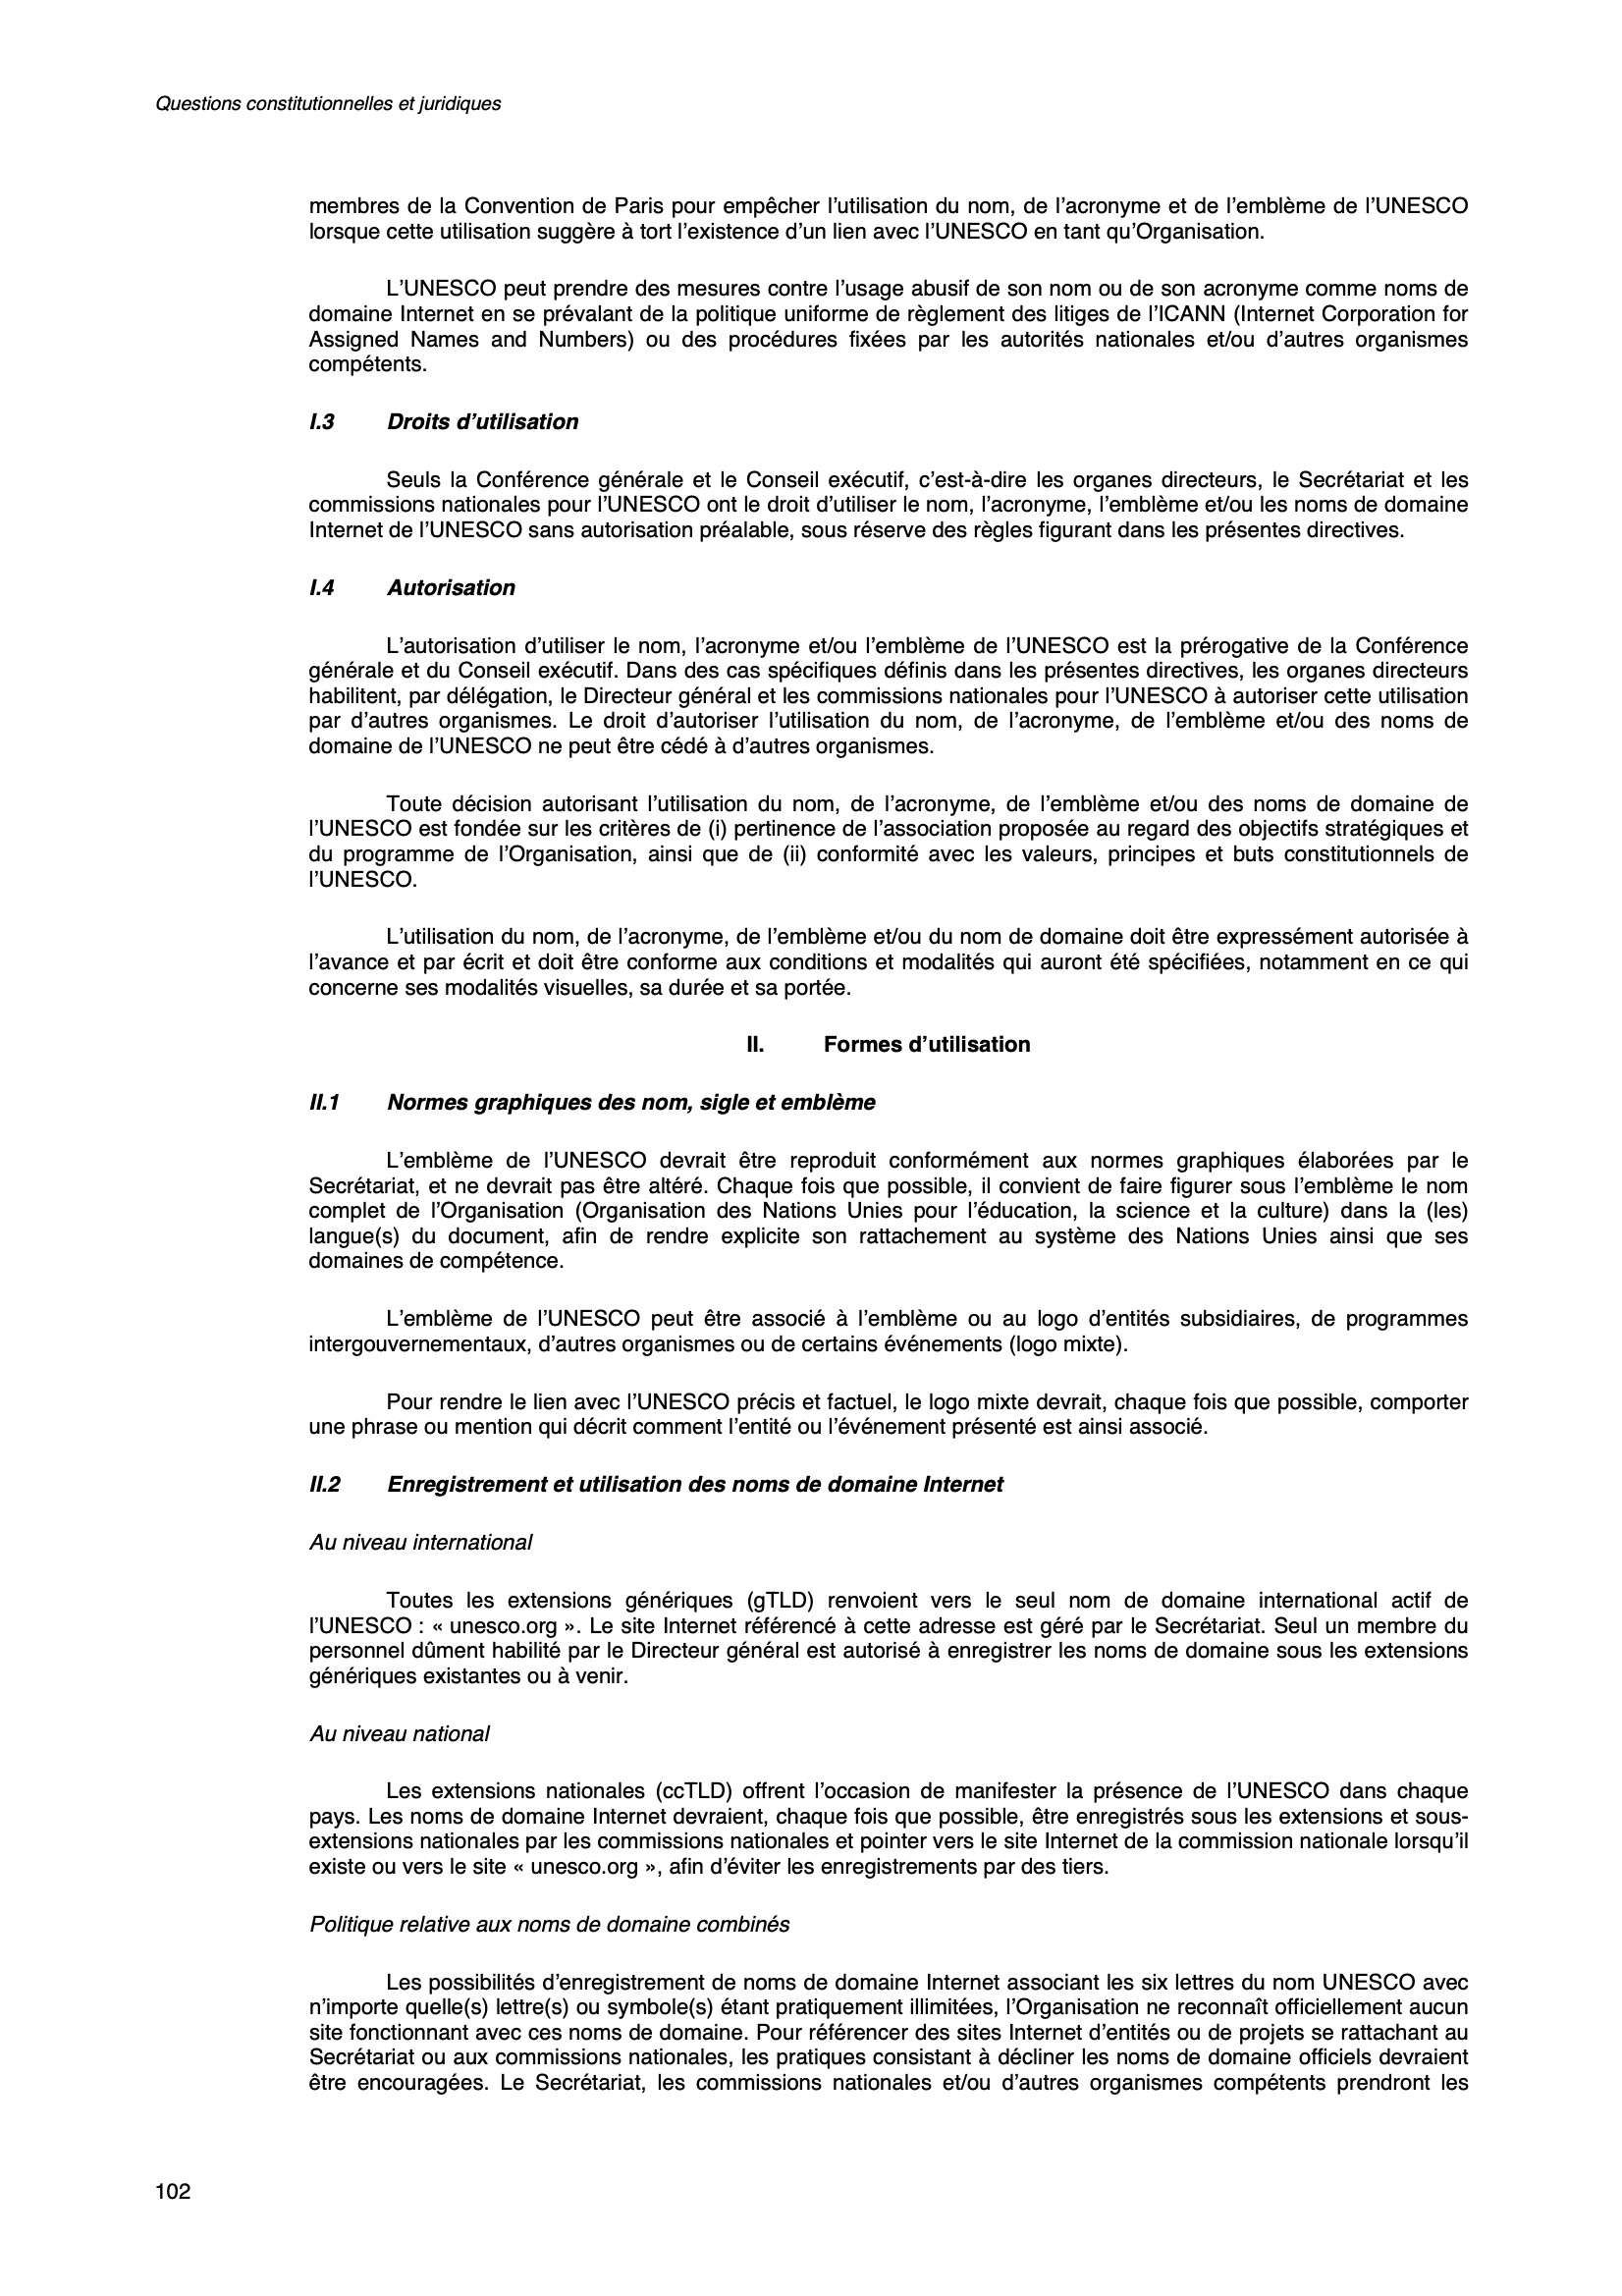MainZone-Continued: (297, 181, 1478, 255)
MainZone-Head: (297, 1465, 1014, 1504), (299, 1081, 889, 1122), (300, 1905, 801, 1946), (298, 400, 589, 445), (724, 1027, 1040, 1065), (300, 1523, 546, 1562), (299, 569, 525, 608), (300, 1716, 499, 1755)
MainZone-P: (297, 1963, 1486, 2110), (298, 1138, 1479, 1281), (297, 628, 1478, 766), (297, 269, 1487, 389), (295, 783, 1480, 902), (299, 1771, 1478, 1888), (295, 1581, 1487, 1697), (297, 462, 1478, 556), (296, 917, 1487, 1011), (295, 1295, 1479, 1368), (300, 1379, 1478, 1447)
StampZone: (147, 82, 509, 129)
TitlePageZone: (149, 2172, 199, 2210)
